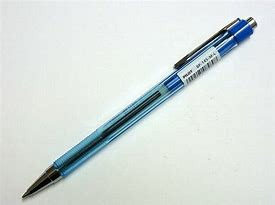pen: (22, 14, 259, 201)
